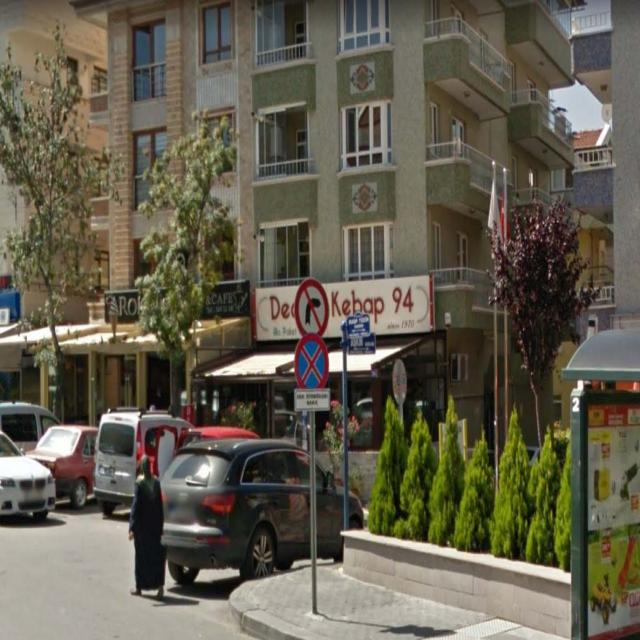sagadonulmez: (294, 278, 328, 342)
